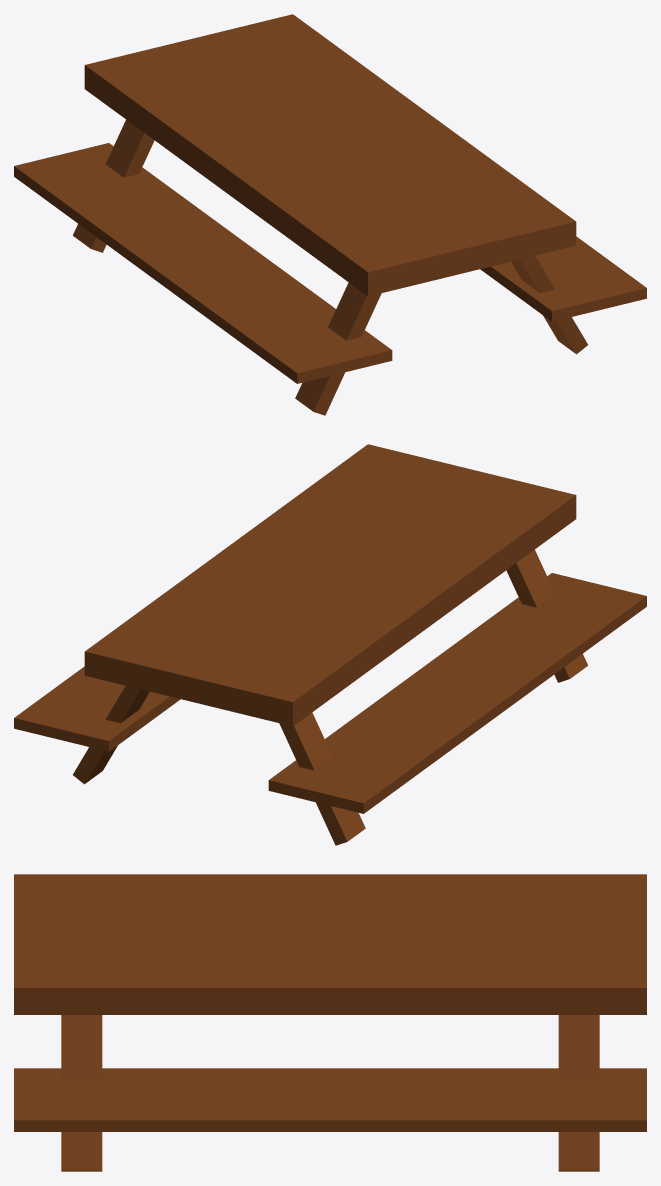
The model's file is props.fbx.
The picture shows the model from 3 angles, top to bottom: view 1: azimuth 30°, elevation 25°; view 2: azimuth 150°, elevation 25°; view 3: azimuth 270°, elevation 25°; orthographic projection. The views are drawn at different scales.
Visible parts, largest first — view 1: Cube, Cube.001, Cube.002; view 2: Cube, Cube.001, Cube.002; view 3: Cube, Cube.001, Cube.002.
Part boxes in pixels (left/top/right/bottom): Cube: left=84, top=14, right=576, bottom=296; Cube.001: left=14, top=143, right=646, bottom=383; Cube.002: left=73, top=119, right=587, bottom=415; Cube: left=84, top=444, right=576, bottom=726; Cube.001: left=14, top=573, right=646, bottom=813; Cube.002: left=73, top=549, right=587, bottom=845; Cube: left=14, top=874, right=646, bottom=1014; Cube.001: left=14, top=1068, right=646, bottom=1131; Cube.002: left=61, top=1015, right=599, bottom=1171.
Size of the model in its own units: 336 by 141 by 471.
